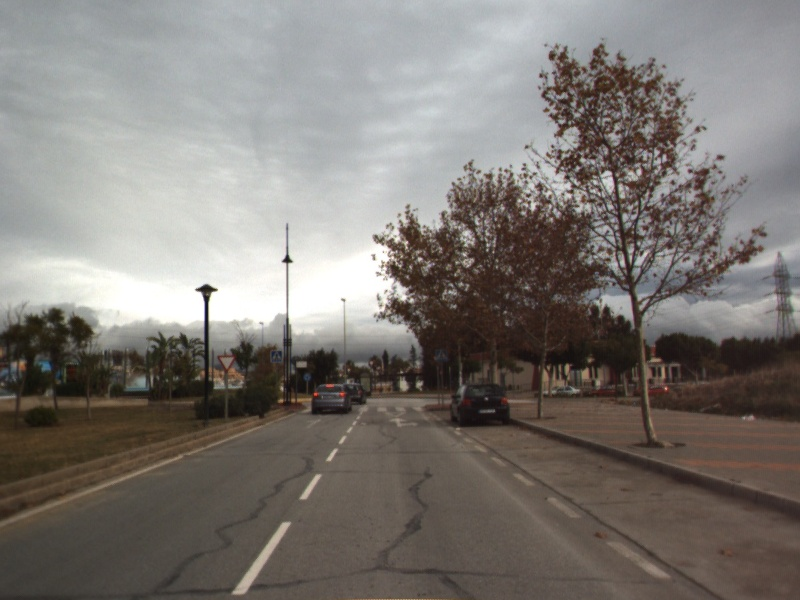STRAIGHT: (304, 417, 326, 430)
STRAIGHT_RIGHT: (387, 415, 421, 429)
